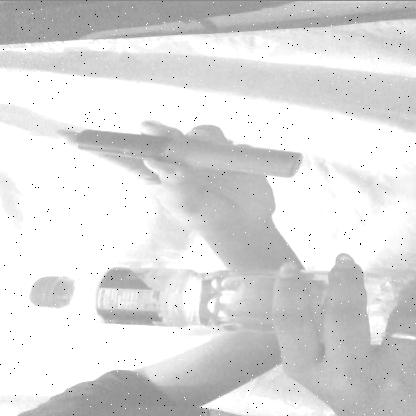Plastic Bottle: (24, 231, 416, 346)
